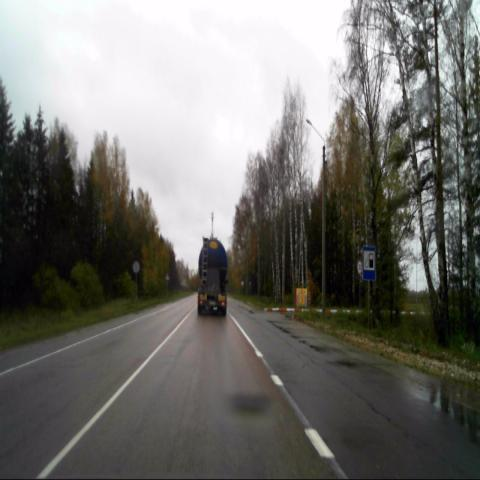7_3: (362, 246, 377, 284)
